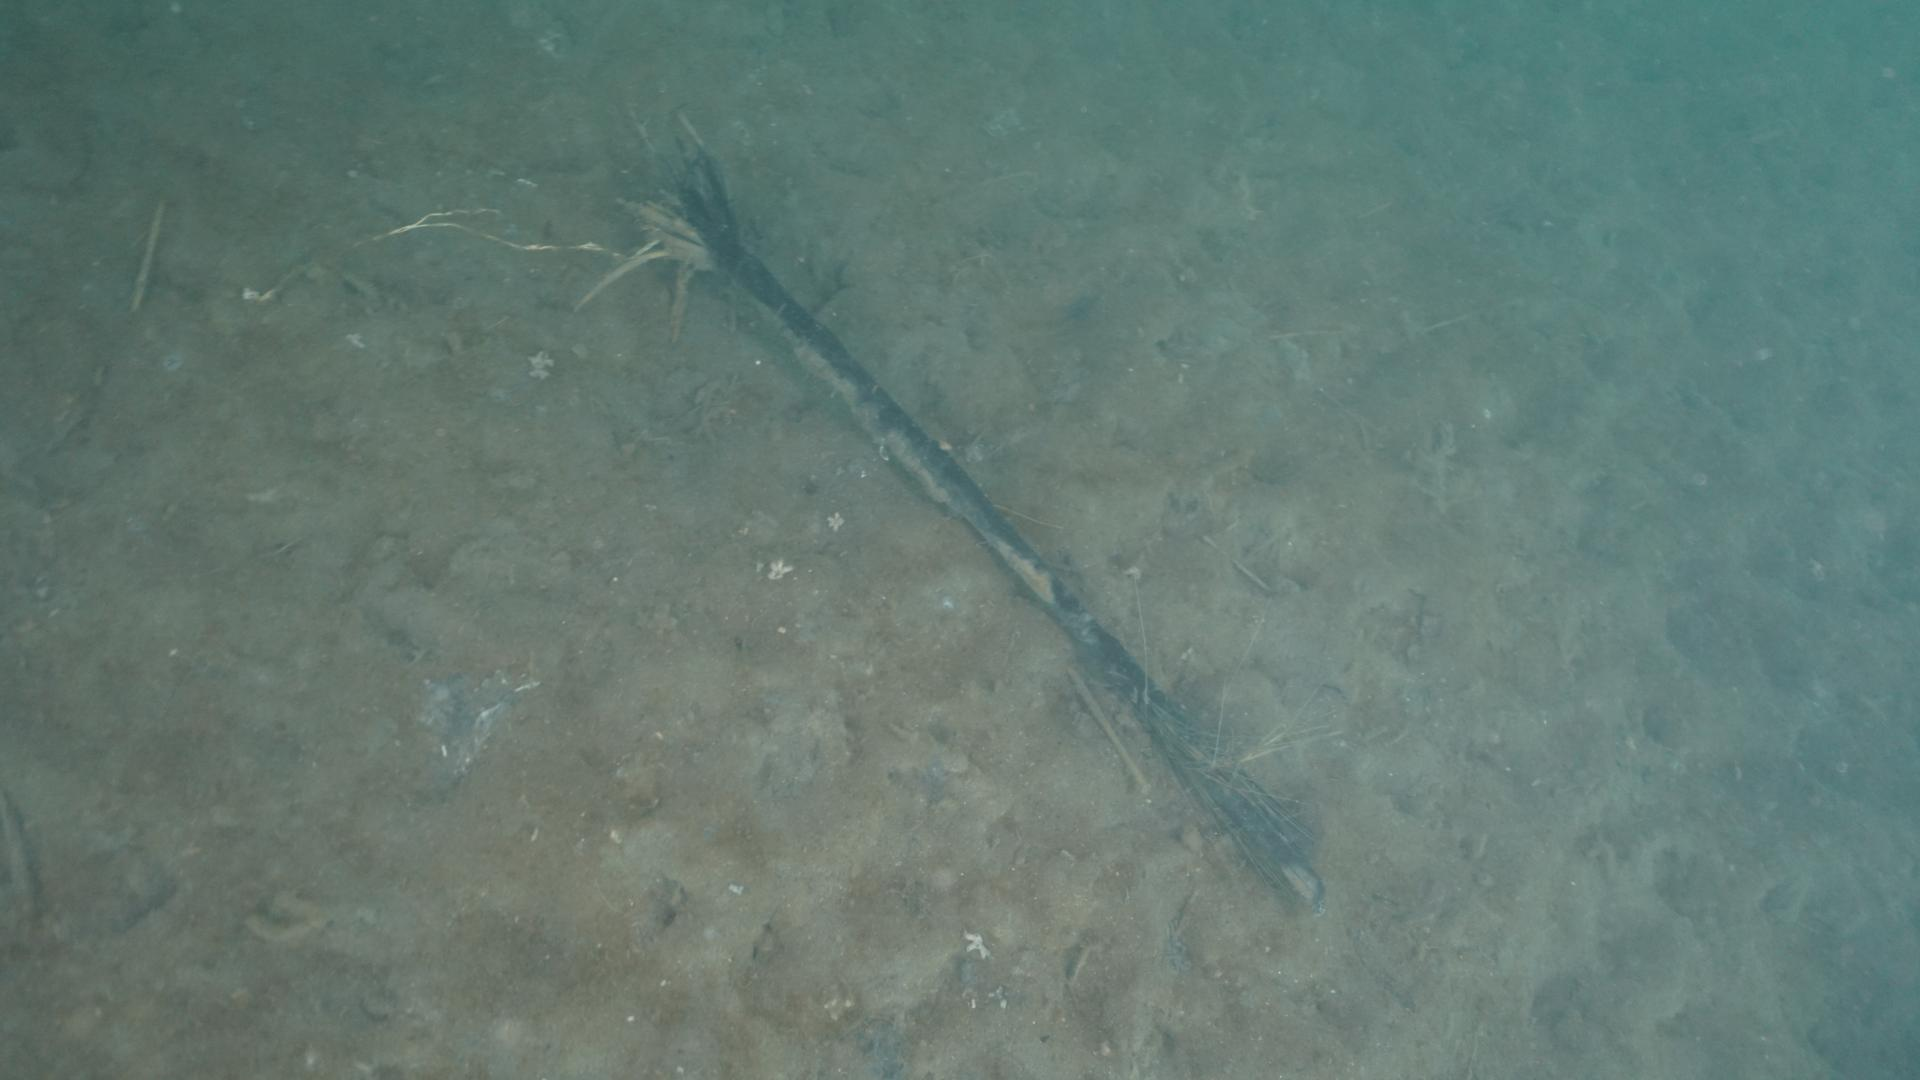wood: (616, 142, 1329, 907)
